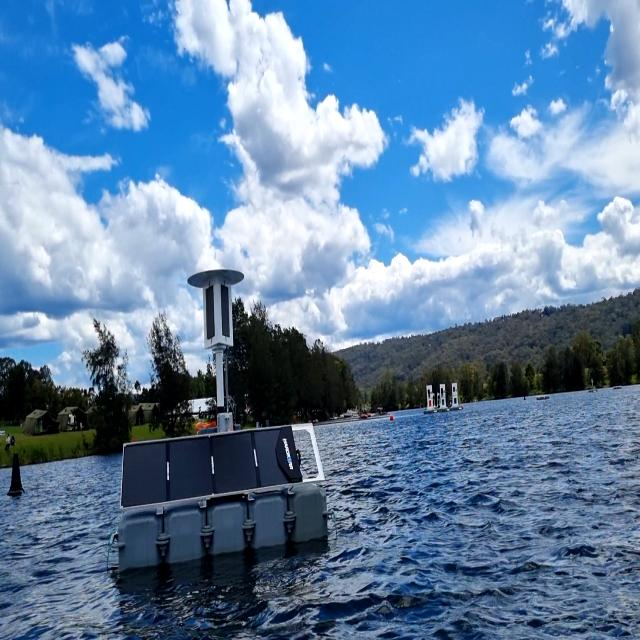led: (205, 285, 218, 342), (219, 280, 231, 340)
